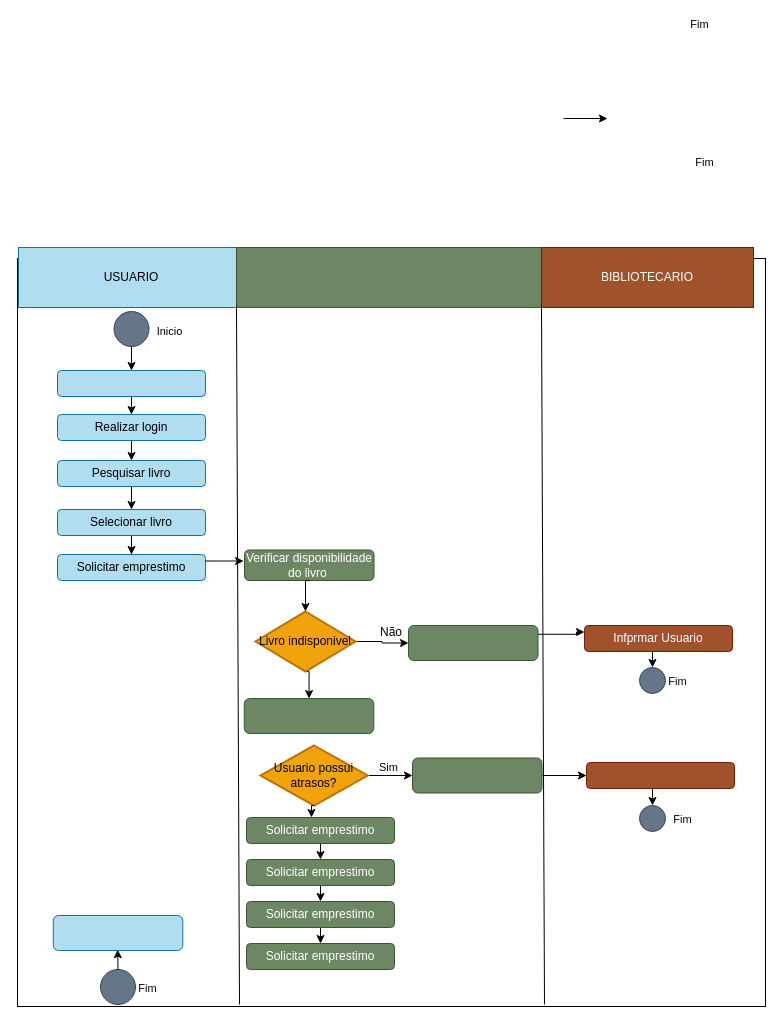
Image size: 783x1032. Some labels were removed from this diagram. The shapes that lost their labels are listed below. From the top down, each one's centre as x and y in pixels, then its label:
At point (392, 277): "SISTEMA".
At point (131, 383): "acessar sistema".
At point (473, 642): "Exibir mensagem de indisponibilidade".
At point (308, 716): "Verificar situção do usuario (atrasos)".
At point (477, 775): "Bloquear emprestimos".
At point (660, 775): "Orientar e informar".
At point (117, 932): "Receber Confirmação de emprestimo".
